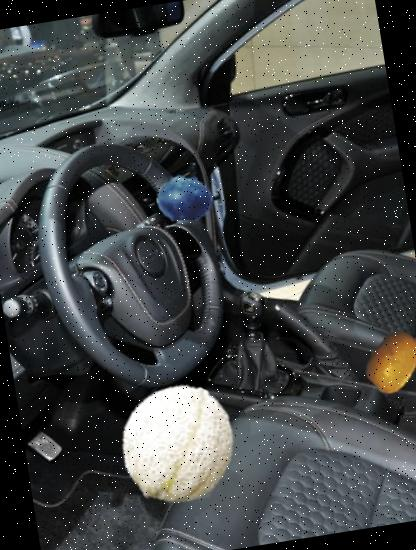Cantaloupe: (107, 374, 248, 515)
Huckleberry: (152, 166, 216, 229)
Kumquats: (357, 325, 416, 398)
